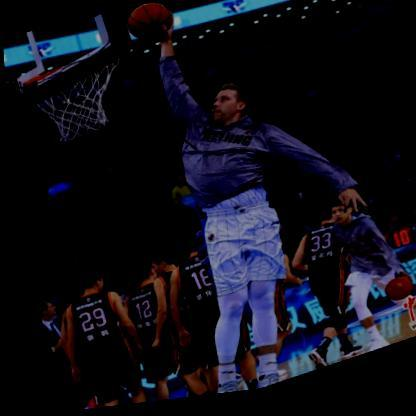basketball: (121, 0, 174, 49), (377, 282, 411, 312)
rim: (14, 46, 141, 153)
